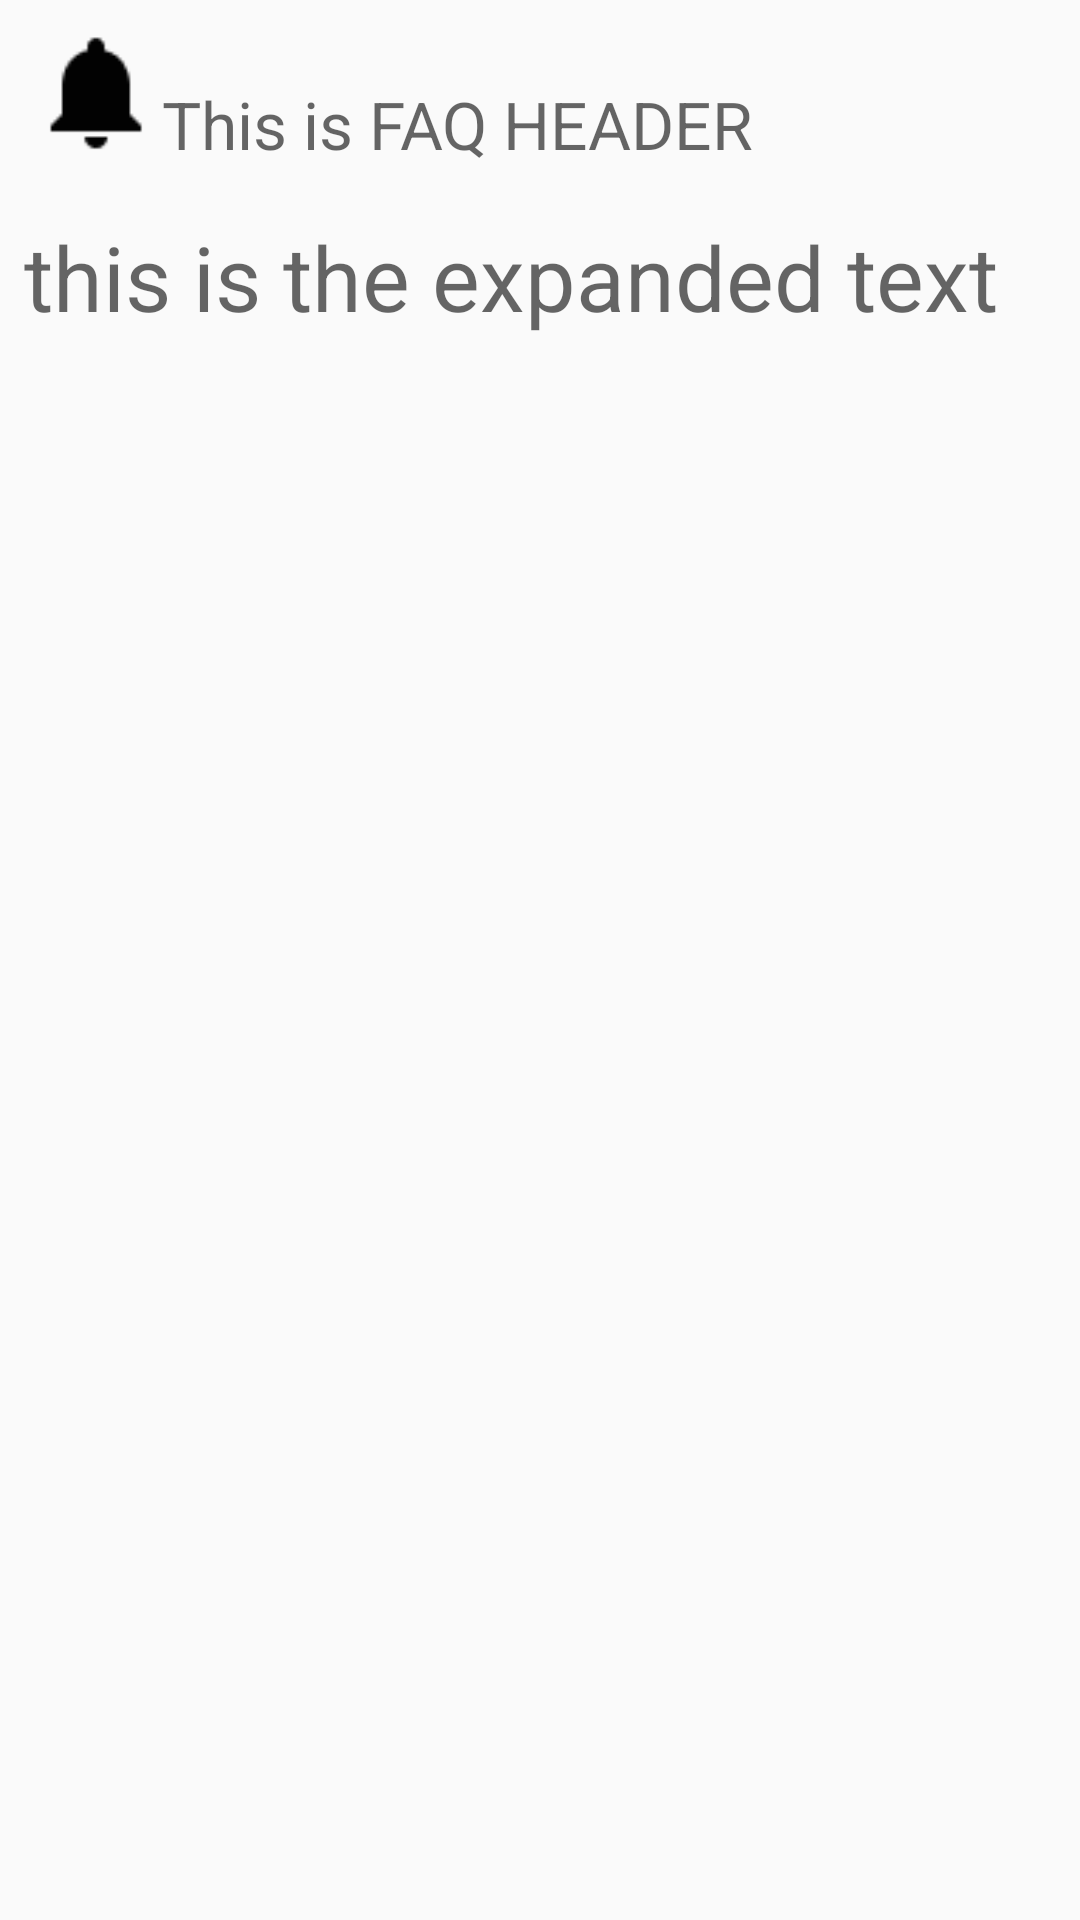

Point at icon controls on the screen. Image size 1080 x 1920, points as point (x, y).
notifcation: point (96, 93)
